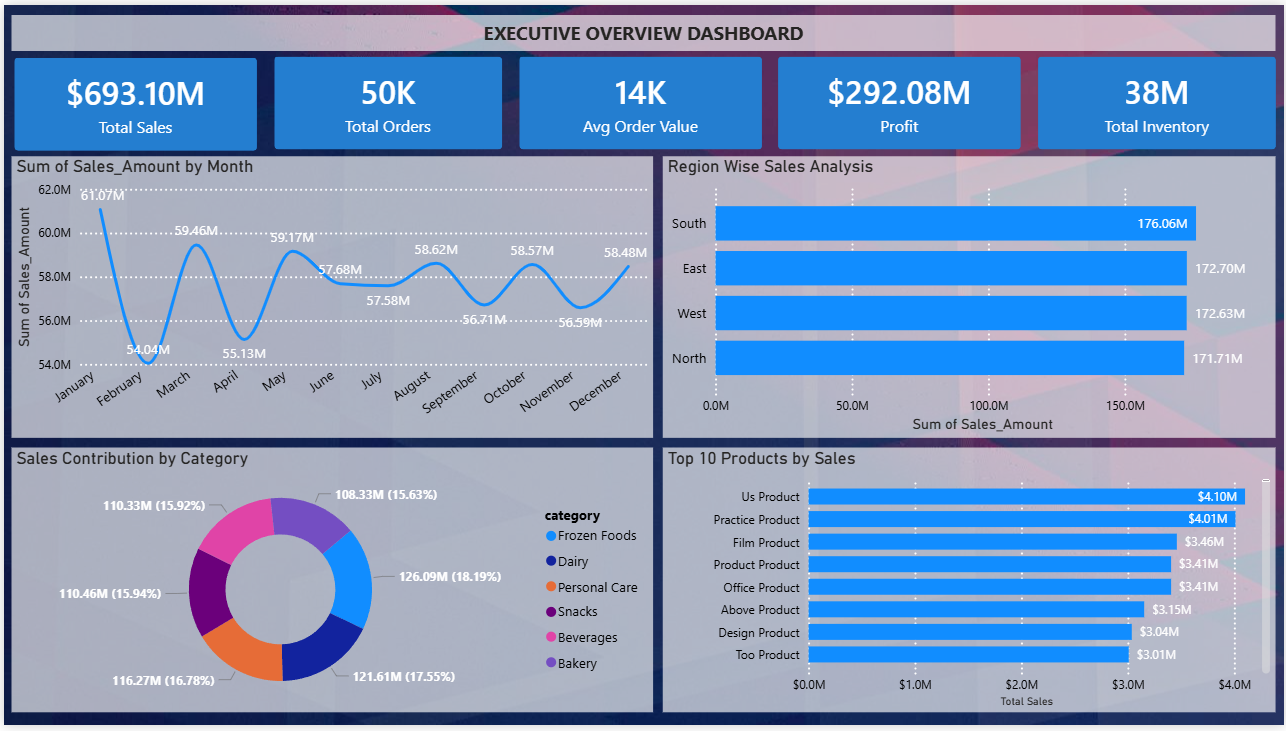

What the dashboard file says about the page in this screenshot:
{"tool":"powerbi","page":{"name":"EXECUTIVE DASHBOARD","canvas":[1280,720],"ordinal":0},"visuals":[{"type":"cardVisual","fields":{"Data":["Sales.Total Sales"]},"box":[0,37.5,260,113.8],"z":0},{"type":"cardVisual","fields":{"Data":["Sales.Total Orders"]},"box":[251.2,37.5,260,113.8],"z":1000},{"type":"cardVisual","fields":{"Data":["Sales.Avg Order Value"]},"box":[506.2,37.5,260,113.8],"z":2000},{"type":"cardVisual","fields":{"Data":["Inventory.Total Inventory"]},"box":[1025,37.5,255,113.8],"z":3000},{"type":"cardVisual","fields":{"Data":["Sales.Profit"]},"box":[765,37.5,260,113.8],"z":4000},{"type":"lineChart","fields":{"Category":["Sales.Date.Variation.Date Hierarchy.Year","Sales.Date.Variation.Date Hierarchy.Month"],"Y":["Sum(Sales.Sales_Amount)"]},"box":[7.5,151.2,632.5,281.2],"z":5000},{"type":"clusteredBarChart","title":"Region Wise Sales Analysis","fields":{"Category":["Sales.Region"],"Y":["Sum(Sales.Sales_Amount)"]},"box":[658.8,151.2,621.2,281.2],"z":6000},{"type":"barChart","title":"Top 10 Products by Sales","fields":{"Category":["Products.product_name"],"Y":["Sales.Total Sales"]},"box":[658.8,442.5,621.2,277.5],"z":7000},{"type":"donutChart","title":"Sales Contribution  by Category","fields":{"Category":["Products.category"],"Y":["Sum(Sales.Sales_Amount)"]},"box":[0,442.5,640,277.5],"z":8000},{"type":"textbox","box":[0,0,1280,37.5],"z":9000}]}

Visuals, with their boxes in screenshot pixels (x1, y1, x2, y2), scaled from the page's 1280x720 canvas onto the 1286x731 screenshot:
cardVisual - Sales.Total Sales: 0,38,261,154
cardVisual - Sales.Total Orders: 252,38,514,154
cardVisual - Sales.Avg Order Value: 509,38,770,154
cardVisual - Inventory.Total Inventory: 1030,38,1285,154
cardVisual - Sales.Profit: 769,38,1030,154
lineChart - Sales.Date.Variation.Date Hierarchy.Year x Sales.Date.Variation.Date Hierarchy.Month: 8,154,643,439
"Region Wise Sales Analysis" clusteredBarChart: 662,154,1285,439
"Top 10 Products by Sales" barChart: 662,449,1285,730
"Sales Contribution  by Category" donutChart: 0,449,643,730
textbox: 0,0,1285,38
